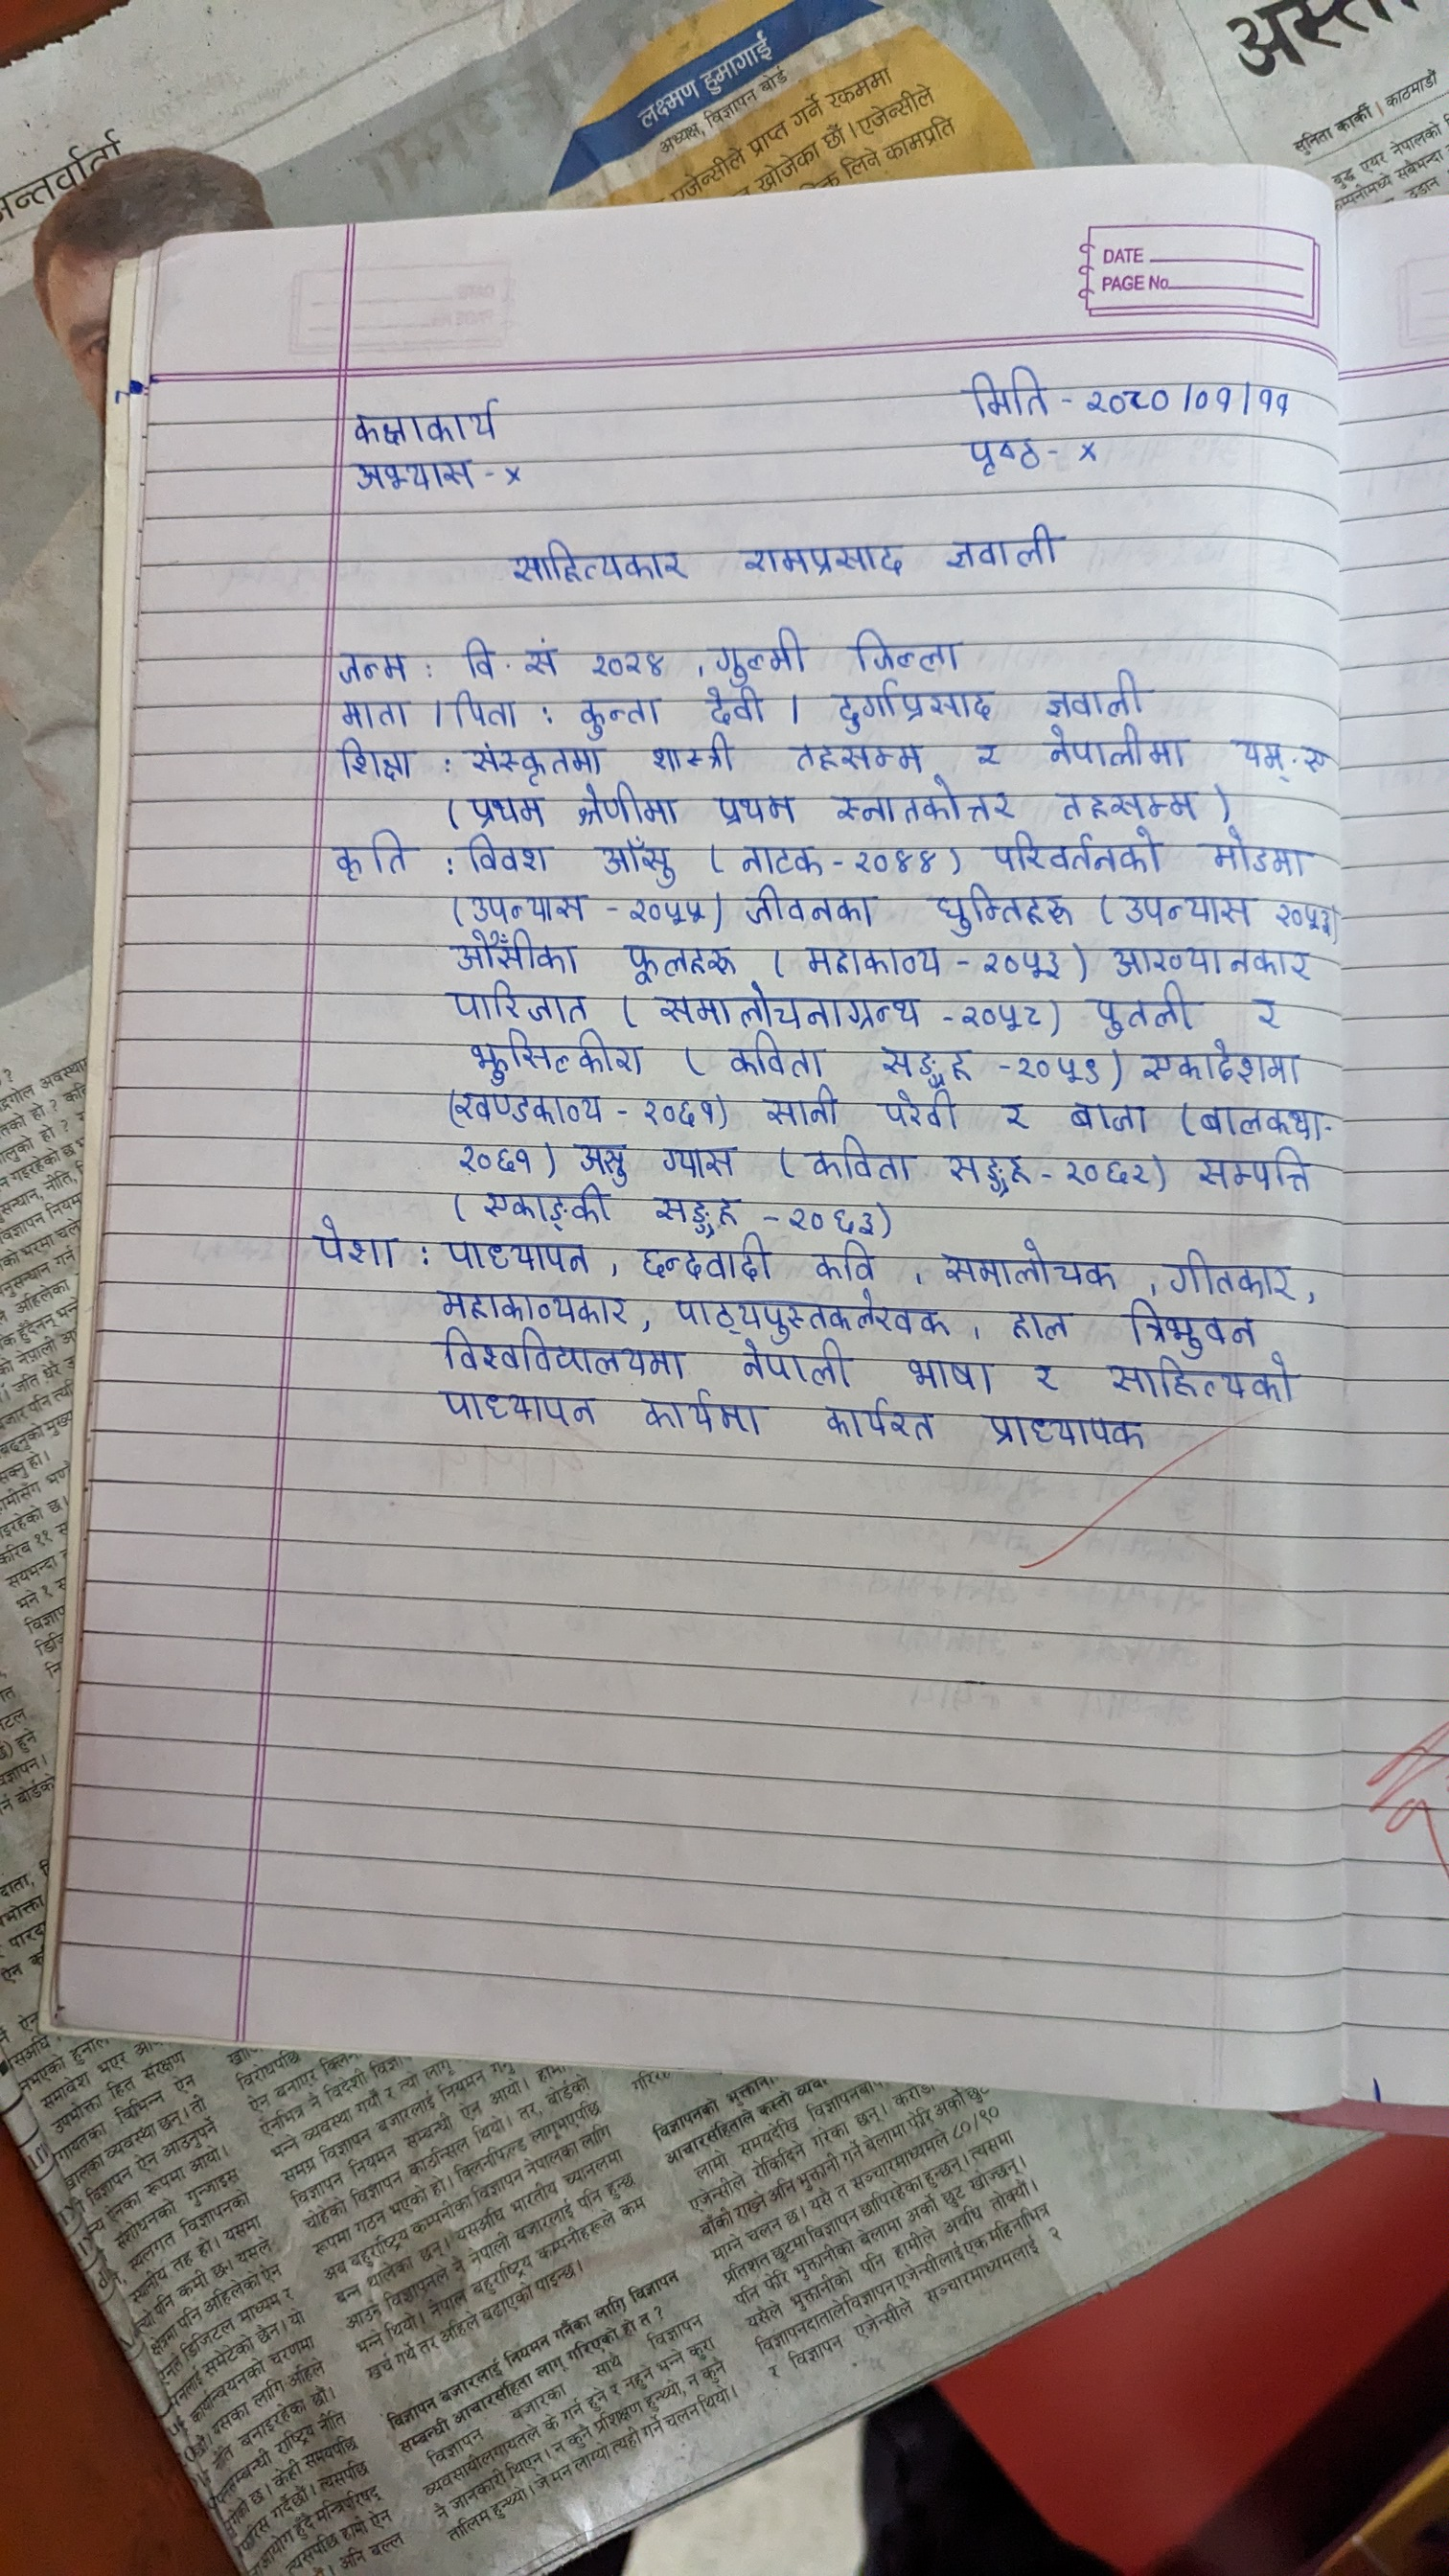text: (649, 987, 929, 1037), (671, 1290, 950, 1336), (433, 1329, 646, 1382), (501, 533, 695, 589), (1102, 1357, 1309, 1408), (832, 678, 1007, 732), (729, 534, 918, 584), (1109, 939, 1320, 984), (943, 1235, 1123, 1286), (973, 1412, 1168, 1458), (430, 1284, 635, 1327), (462, 1030, 642, 1077), (982, 830, 1168, 876), (833, 780, 1017, 826), (347, 393, 506, 446), (1138, 1040, 1309, 1088), (941, 520, 1083, 577), (934, 883, 1079, 938), (1161, 1244, 1297, 1297), (1120, 1302, 1260, 1353), (817, 1398, 947, 1453), (433, 1391, 600, 1431), (633, 1389, 770, 1438), (741, 885, 876, 934), (1053, 780, 1207, 823), (796, 941, 950, 984), (1040, 725, 1187, 770), (439, 931, 584, 975), (708, 623, 814, 683), (442, 1237, 593, 1279), (444, 980, 587, 1024), (1203, 830, 1318, 885), (478, 1185, 610, 1231), (782, 740, 938, 778), (732, 1338, 858, 1385), (1192, 1099, 1327, 1143), (639, 1235, 768, 1281), (1192, 1146, 1320, 1192), (1040, 662, 1143, 718), (458, 743, 607, 782), (306, 1214, 405, 1272), (1090, 985, 1198, 1037), (844, 625, 964, 671), (458, 1090, 614, 1125), (349, 453, 478, 494), (962, 363, 1054, 419), (619, 939, 736, 984), (1122, 892, 1253, 931), (939, 1143, 1031, 1198), (327, 826, 414, 883), (465, 888, 591, 925), (878, 1044, 982, 1088), (722, 1040, 833, 1081), (803, 1136, 915, 1177), (327, 639, 418, 688), (594, 835, 685, 885), (573, 786, 678, 828), (1060, 1097, 1159, 1141), (570, 697, 672, 738), (711, 787, 803, 832), (727, 839, 832, 878), (646, 1192, 745, 1233), (582, 642, 676, 685), (331, 738, 416, 782), (879, 1090, 968, 1132), (906, 1353, 998, 1394), (462, 837, 557, 876), (656, 1139, 750, 1178), (1060, 1154, 1155, 1191), (1085, 377, 1175, 416), (453, 1138, 541, 1177), (699, 686, 778, 729), (809, 1238, 885, 1283), (964, 435, 1049, 474), (448, 686, 525, 729), (764, 1086, 849, 1125), (961, 998, 1049, 1035), (1016, 1049, 1108, 1085), (787, 1200, 876, 1235), (649, 741, 741, 775), (982, 947, 1065, 984), (628, 893, 713, 929), (1007, 1302, 1076, 1345), (853, 842, 941, 874), (467, 793, 548, 826), (1231, 732, 1292, 777), (635, 1093, 718, 1125), (1274, 893, 1332, 938), (340, 697, 412, 731), (573, 1139, 630, 1182), (451, 630, 495, 678), (1258, 375, 1304, 419), (1187, 375, 1235, 416), (522, 633, 566, 676), (1246, 996, 1293, 1030), (648, 1345, 692, 1380), (1030, 1353, 1065, 1394), (1299, 738, 1330, 780), (970, 738, 1008, 770), (998, 1102, 1037, 1132)
